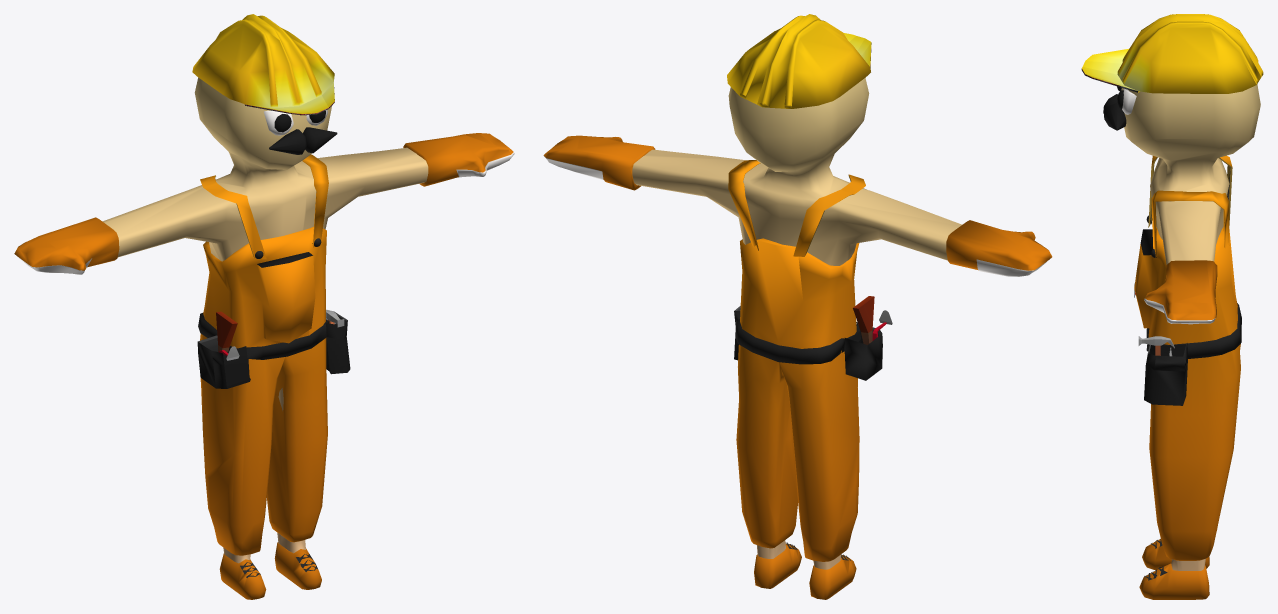
Rendered from karakter 1 erkek.fbx.
The picture shows the model from 3 angles, left to right: view 1: azimuth 30°, elevation 25°; view 2: azimuth 150°, elevation 25°; view 3: azimuth 270°, elevation 25°; orthographic projection.
Parts seen in each view (by area): view 1: İkosfer.013; view 2: İkosfer.013; view 3: İkosfer.013.
Part boxes in pixels (x1=…): İkosfer.013: x1=14, y1=14, x2=514, y2=599; İkosfer.013: x1=543, y1=14, x2=1052, y2=599; İkosfer.013: x1=1081, y1=14, x2=1263, y2=599.
Bounding box in the file's own units: 125 × 138 × 40.09.
1 material, 1 textured.
